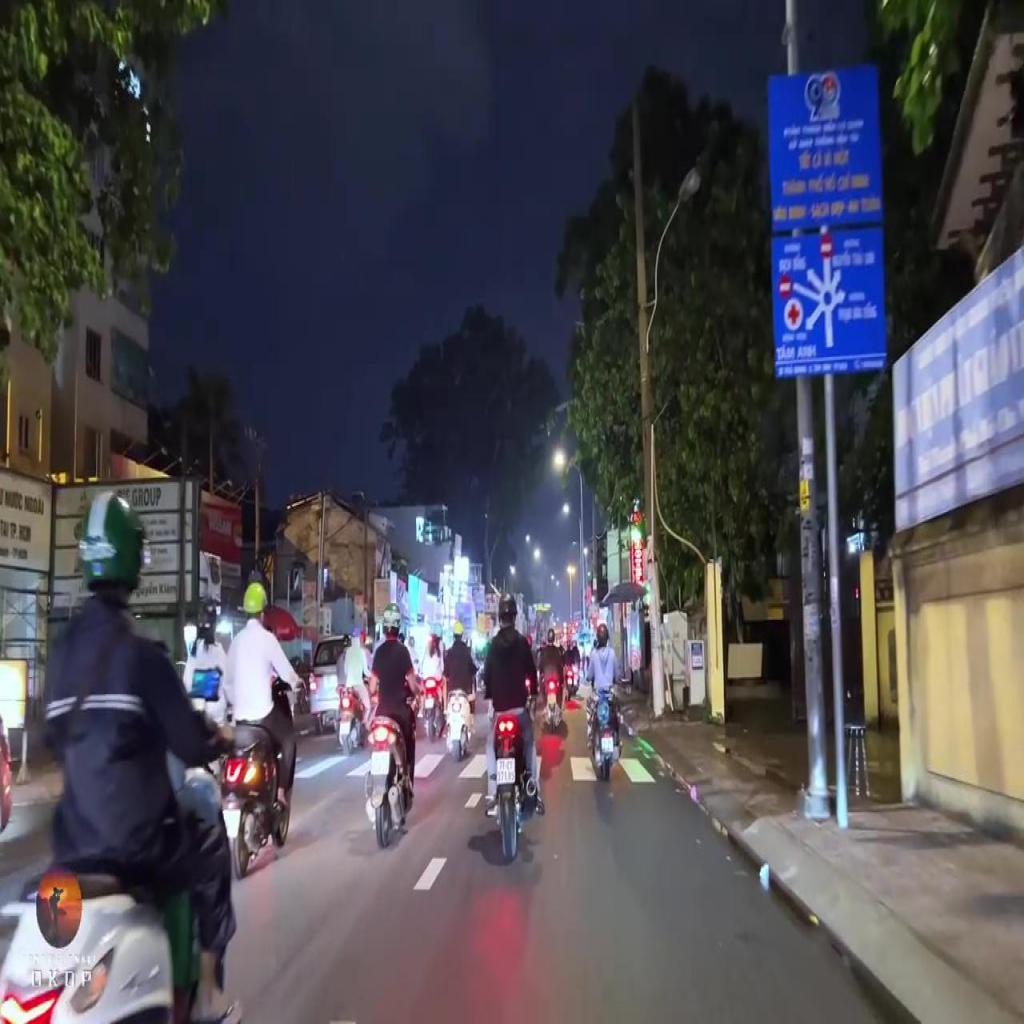khac: (768, 228, 887, 376)
